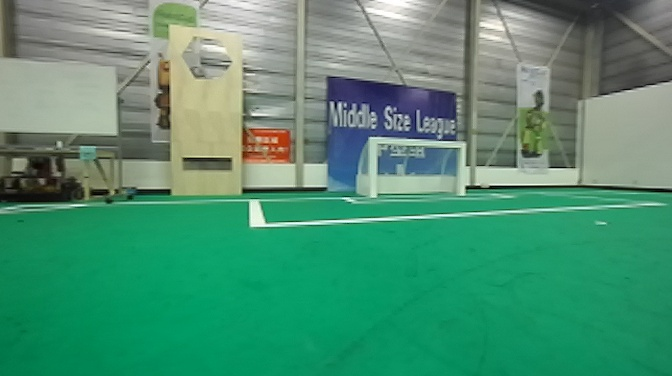ball: (476, 178, 494, 192)
goalpost: (364, 132, 384, 200), (450, 135, 469, 202)
